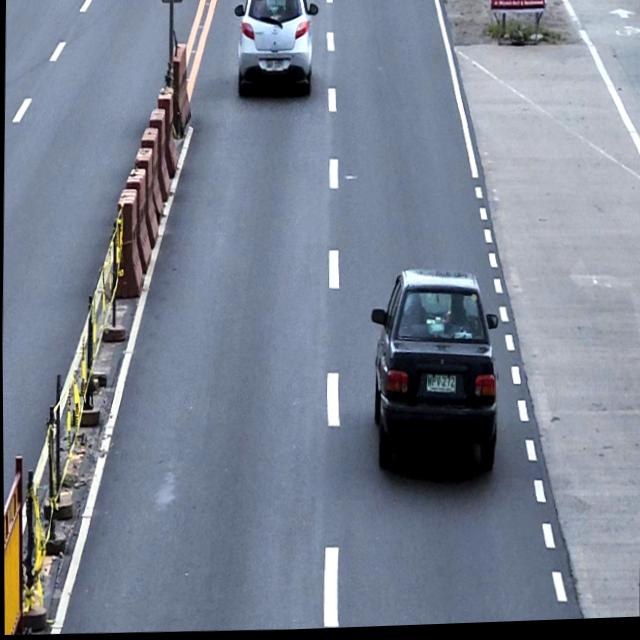Car: (367, 267, 500, 479), (232, 0, 319, 97)
License-Plate: (424, 373, 456, 398), (264, 60, 284, 73)
